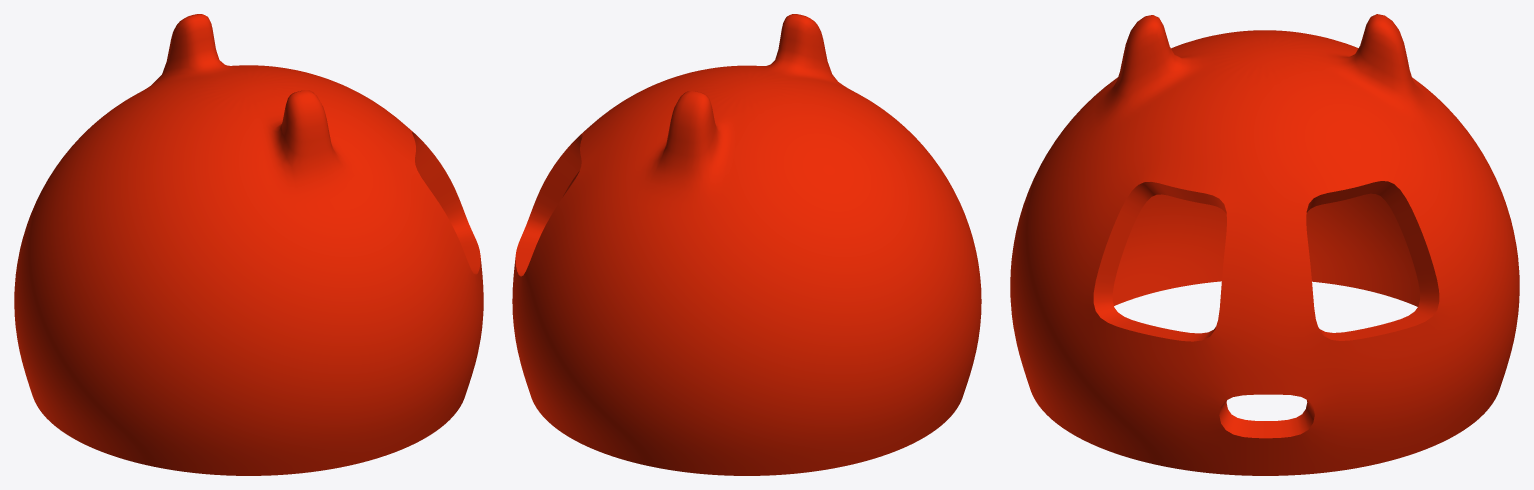
Rendered from mymask.glb.
3 views of the same model, side by side, from view 1: azimuth 30°, elevation 25°; view 2: azimuth 150°, elevation 25°; view 3: azimuth 270°, elevation 25° (orthographic). The views are drawn at different scales.
Visible parts, largest first — view 1: Sphere; view 2: Sphere; view 3: Sphere.
Boxes of the visible parts, x1=… form: Sphere: x1=14, y1=14, x2=483, y2=475; Sphere: x1=512, y1=14, x2=981, y2=475; Sphere: x1=1010, y1=14, x2=1519, y2=475.
Bounding box in the file's own units: 2.16 × 1.67 × 2.16.
